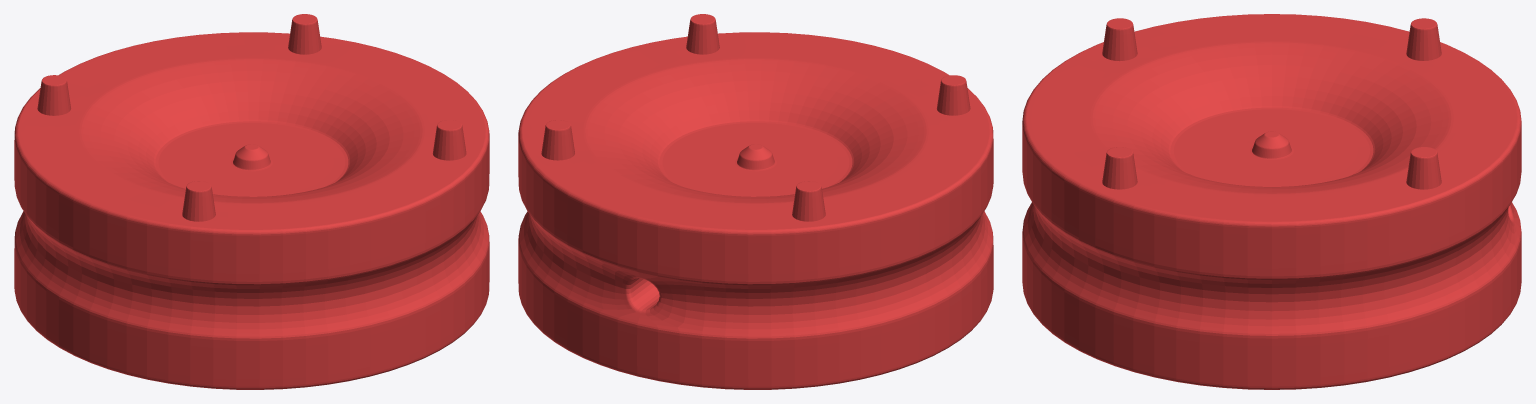
Rendered from canister_bottom_disc.fbx.
3 views of the same model, side by side, from view 1: azimuth 30°, elevation 25°; view 2: azimuth 150°, elevation 25°; view 3: azimuth 270°, elevation 25° (orthographic). The views are drawn at different scales.
Visible parts, largest first — view 1: Bottom_Disc; view 2: Bottom_Disc; view 3: Bottom_Disc.
Part boxes in pixels (bbox=[...]): Bottom_Disc: bbox=[14, 14, 489, 389]; Bottom_Disc: bbox=[518, 14, 993, 389]; Bottom_Disc: bbox=[1022, 14, 1521, 389].
Size of the model in its own units: 39.74 by 17.41 by 39.74.
